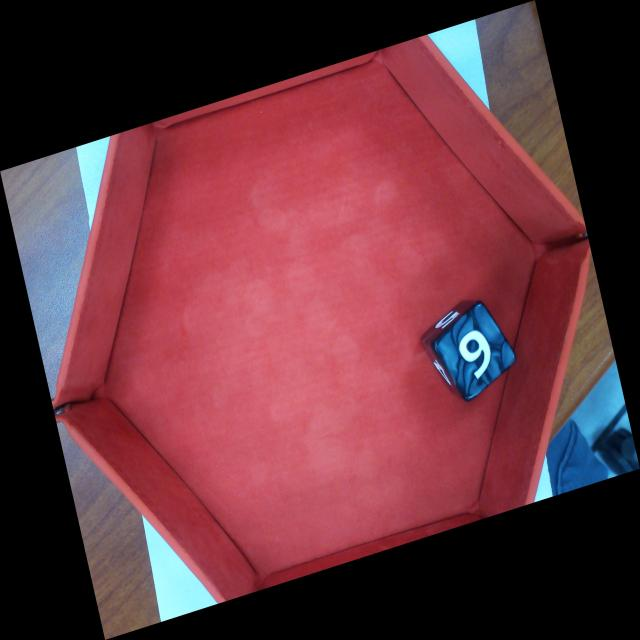dice: (428, 294, 522, 407)
